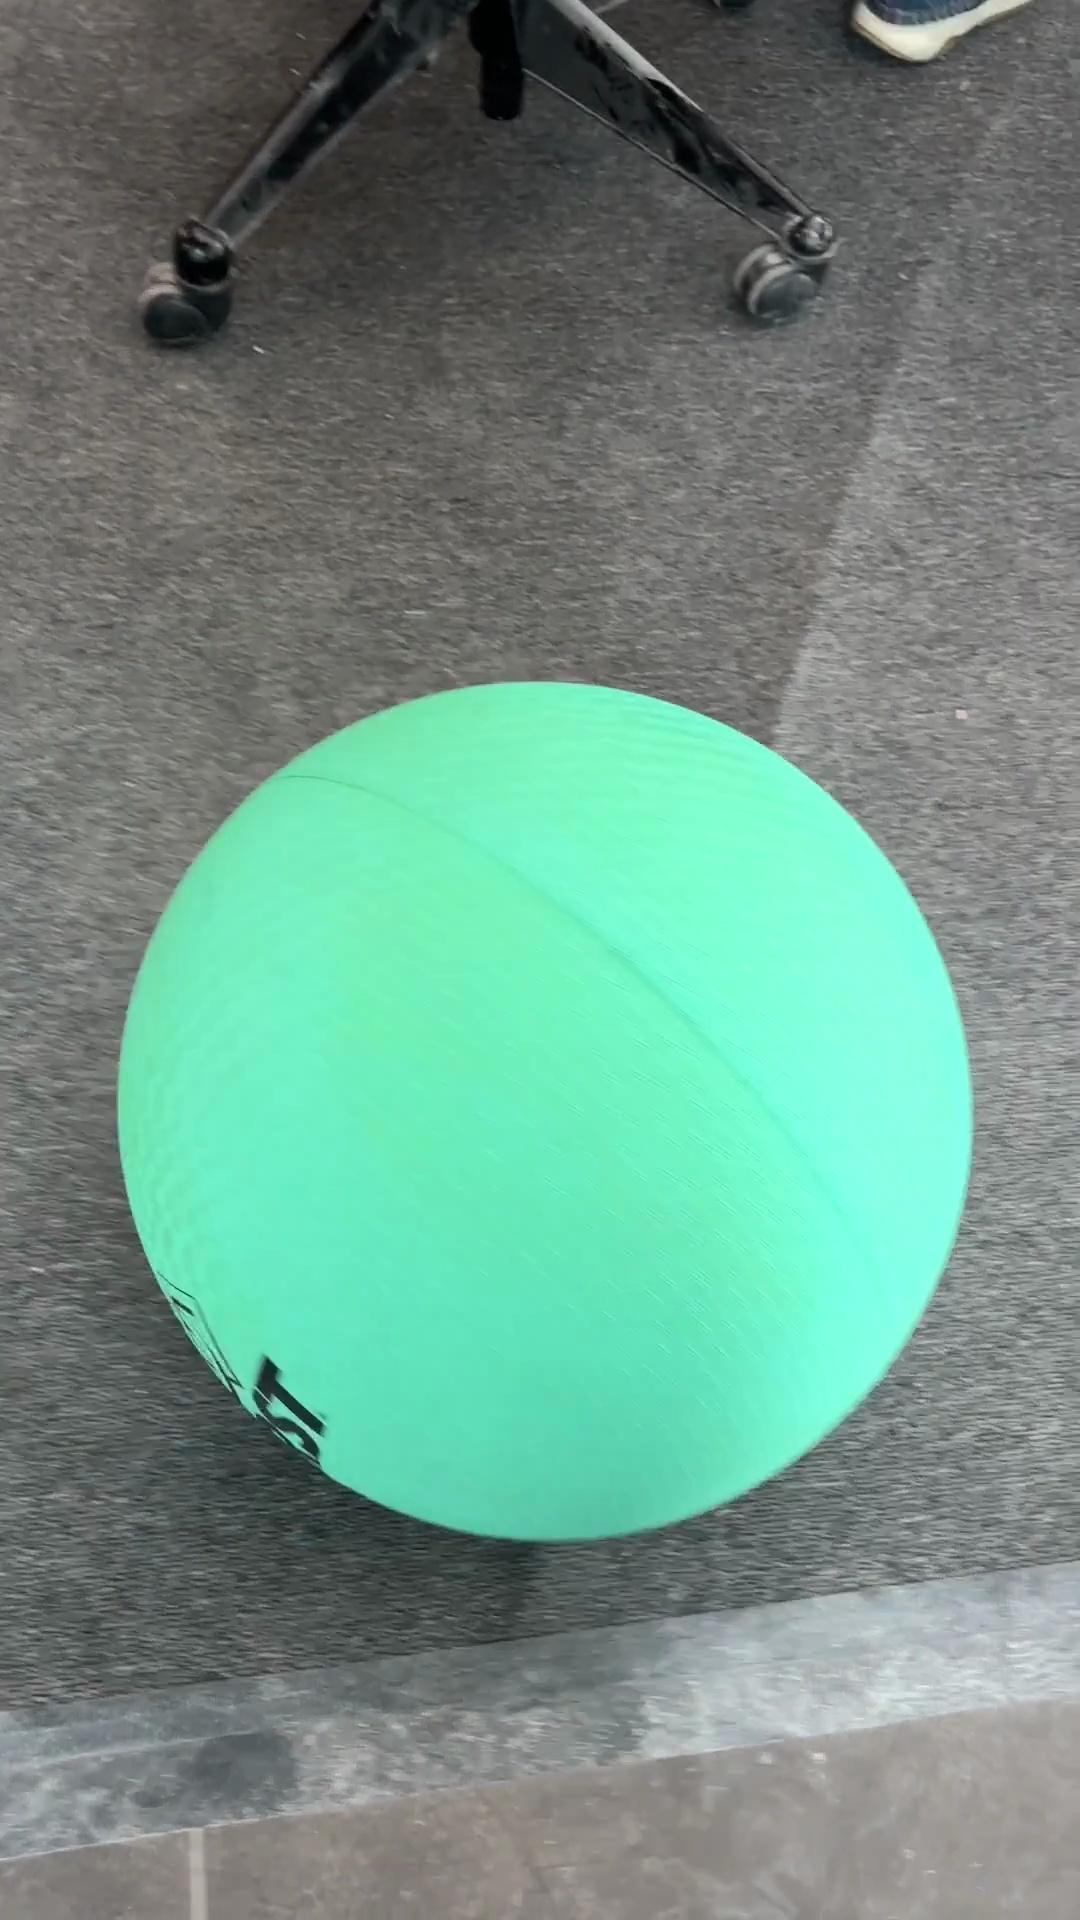ALGAE: (113, 675, 976, 1546)
